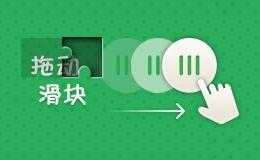target: (42, 17, 82, 57)
